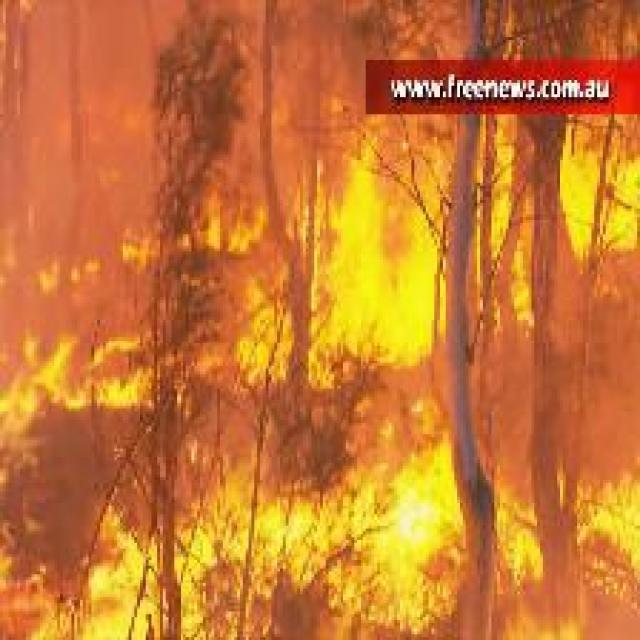fire: (24, 119, 632, 627)
